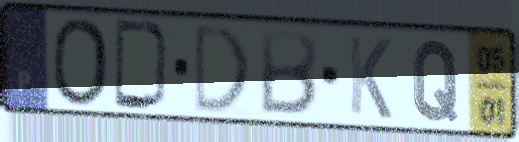B: (256, 26, 322, 118)
D: (111, 16, 173, 114), (192, 20, 252, 116)
K: (345, 32, 394, 123)
O: (49, 15, 112, 109)
Q: (410, 37, 461, 124)
